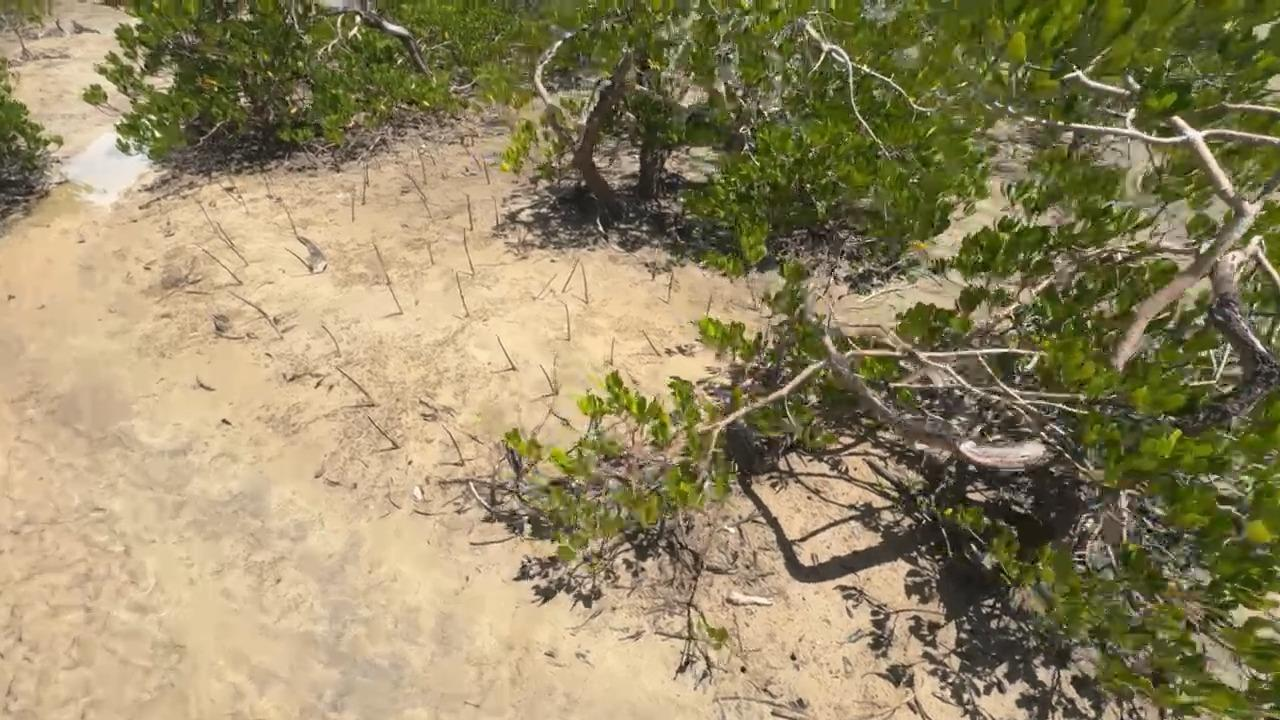Tree: (201, 249, 244, 285), (335, 366, 371, 398), (367, 415, 400, 449), (227, 290, 269, 316), (441, 423, 465, 465), (219, 236, 249, 266), (495, 333, 518, 370), (373, 243, 391, 284), (284, 247, 312, 271), (260, 310, 283, 339), (561, 258, 580, 293), (639, 329, 662, 357), (463, 227, 476, 276), (405, 172, 427, 198), (216, 221, 237, 248), (456, 272, 469, 315), (321, 325, 340, 351), (388, 285, 404, 313), (539, 364, 554, 392), (581, 261, 590, 304), (199, 203, 214, 227), (552, 353, 560, 396), (666, 271, 675, 304), (286, 210, 298, 234), (564, 303, 571, 341), (420, 196, 432, 218), (466, 193, 473, 230), (483, 155, 490, 184), (428, 240, 435, 264), (473, 155, 483, 171), (611, 336, 616, 366), (421, 161, 427, 185), (706, 294, 712, 317), (362, 176, 366, 205), (351, 196, 354, 223)
